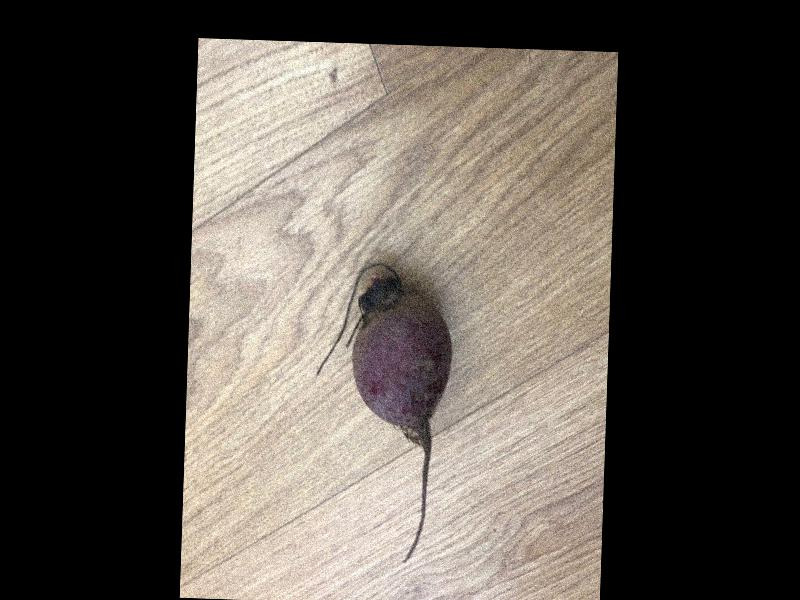Beet: (310, 261, 455, 565)
